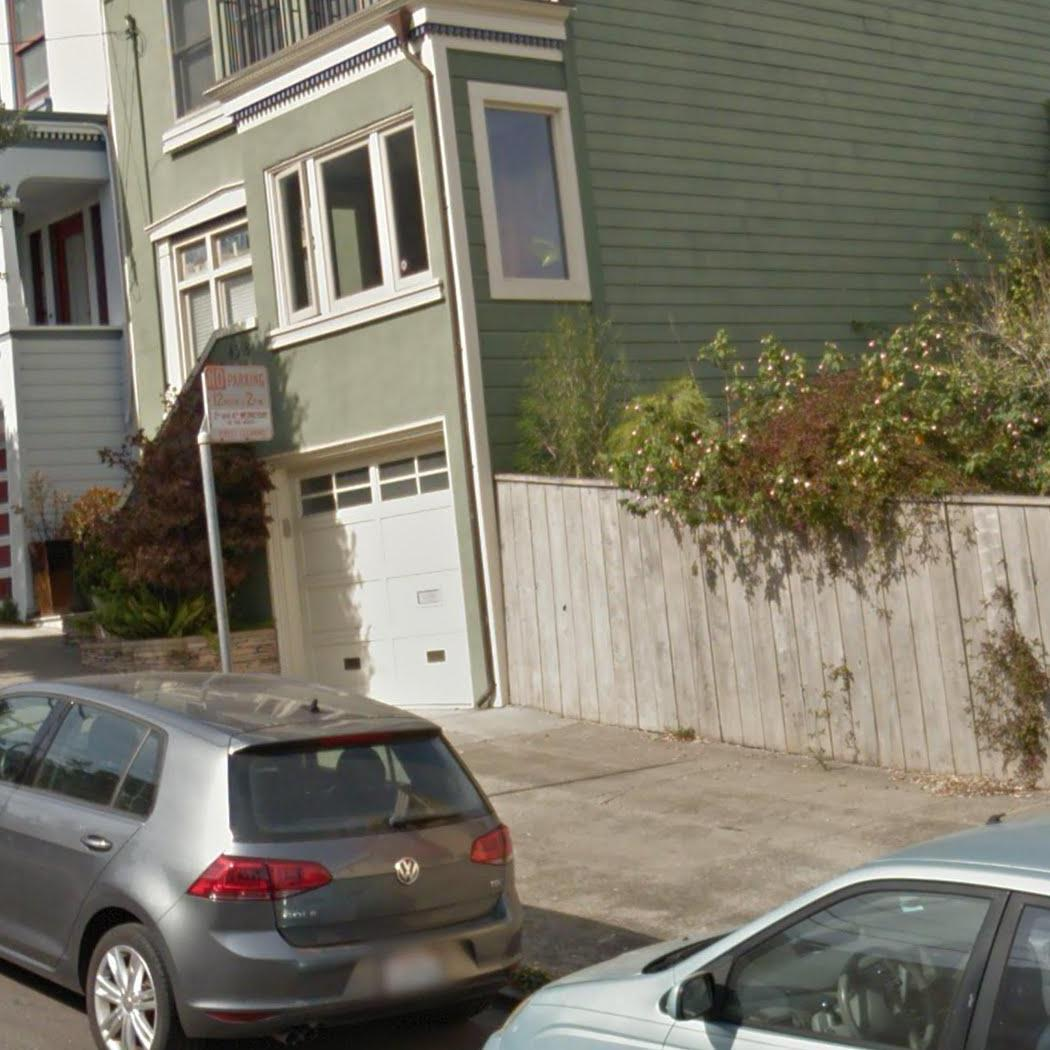No Parking: (197, 361, 278, 446)
